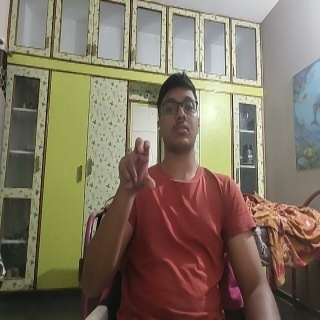No: (118, 136, 158, 194)
